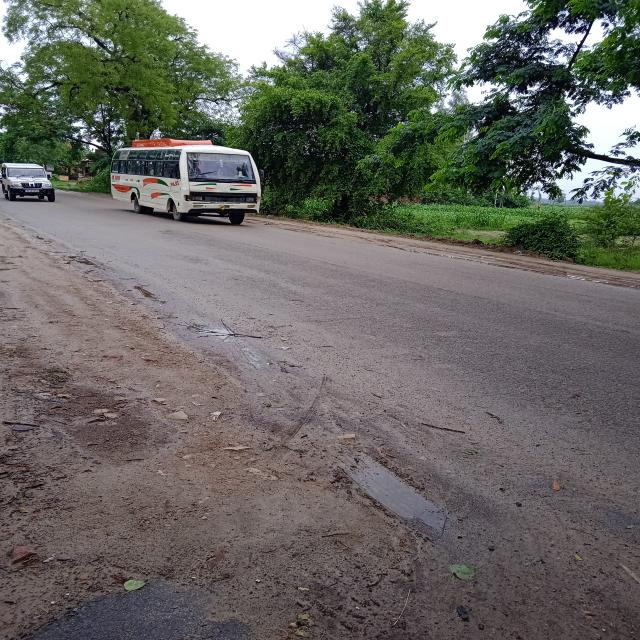Bus: (111, 128, 268, 220)
